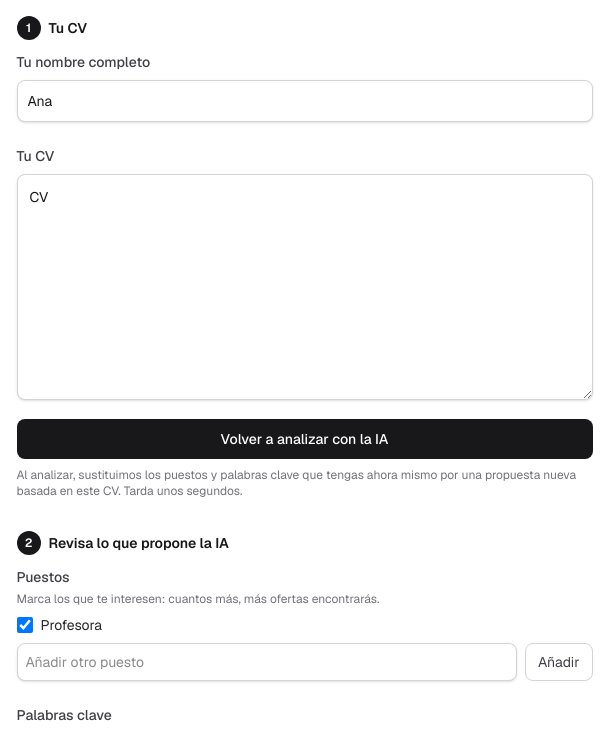
Test case: FormularioPerfil — B2: propuesta automática de puestos y palabras clave (T86/T88) › permite añadir un puesto propio con la barra libre
Type "Formadora corporativa" into the field with placeholder "Añadir otro puesto".
click(267, 662); type("Formadora corporativa")  # box [16,642,517,680]
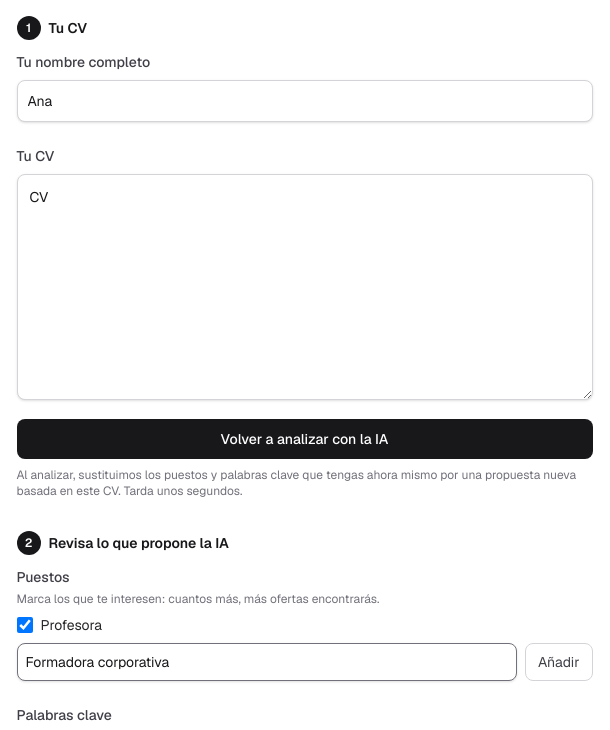
Click the button with aria-label "Añadir puesto".
click(559, 662)  # box [525,642,592,680]
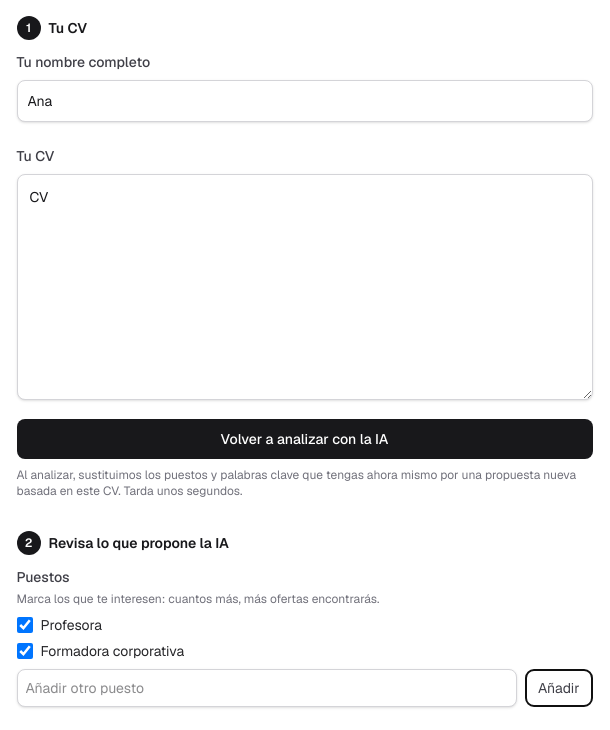
Now the checkbox labelled "Formadora corporativa" is checked, box [16,642,32,658]
